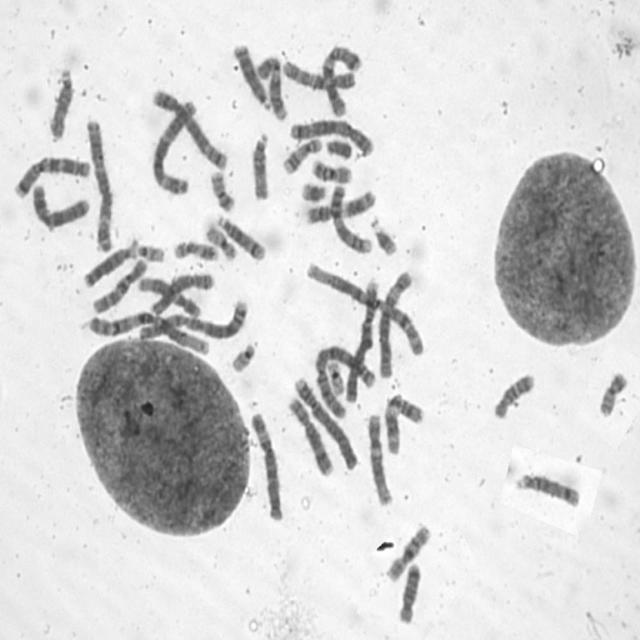A1: (300, 256, 426, 358), (83, 304, 211, 358)
A2: (134, 294, 250, 343), (309, 339, 376, 417)
A3: (146, 91, 200, 197), (82, 113, 115, 254)
B4: (289, 371, 359, 471), (340, 272, 383, 405)
B5: (147, 81, 230, 170), (284, 114, 375, 158)
C10: (88, 252, 149, 315), (277, 53, 357, 92)
C11: (380, 388, 425, 456), (301, 186, 376, 226)
C12: (133, 271, 202, 319), (364, 409, 395, 507)
C6: (374, 265, 414, 380), (246, 406, 284, 523)
C7: (10, 149, 92, 200), (318, 40, 364, 119)
C8: (284, 391, 335, 478), (144, 268, 216, 316)
C9: (326, 180, 374, 254), (252, 49, 288, 122)
D13: (228, 37, 272, 112), (79, 238, 139, 289)
D14: (512, 467, 582, 509), (212, 209, 267, 262)
D15: (44, 62, 75, 142), (248, 126, 271, 202)
E16: (382, 519, 432, 583), (307, 153, 353, 184)
E17: (278, 130, 324, 176), (169, 234, 220, 262)
E18: (489, 368, 536, 422), (393, 558, 423, 626)
F19: (200, 218, 238, 261), (323, 354, 346, 396)
F20: (594, 366, 630, 418), (205, 164, 237, 213)
G21: (366, 211, 399, 258), (297, 176, 328, 204)
G22: (226, 336, 258, 374), (131, 236, 165, 263)
X: (28, 177, 92, 231), (144, 268, 216, 316)
Y: (322, 132, 353, 160)
